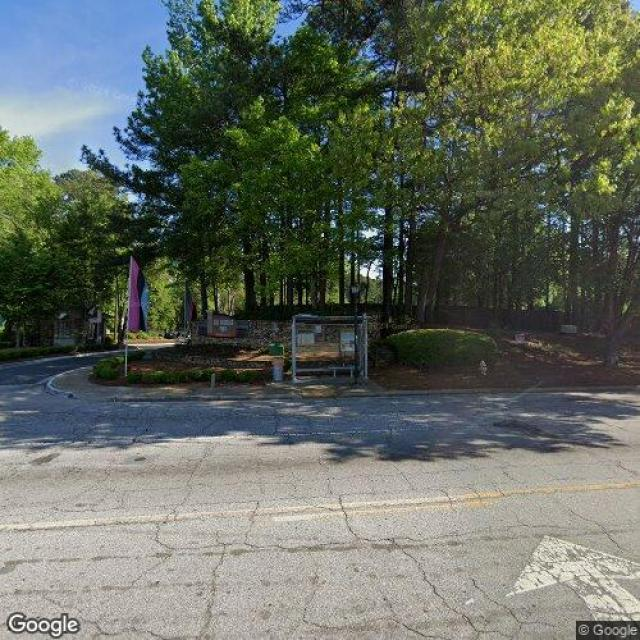seating: (327, 363, 357, 378)
shelter: (292, 313, 372, 381)
trash_can: (274, 358, 284, 382)
